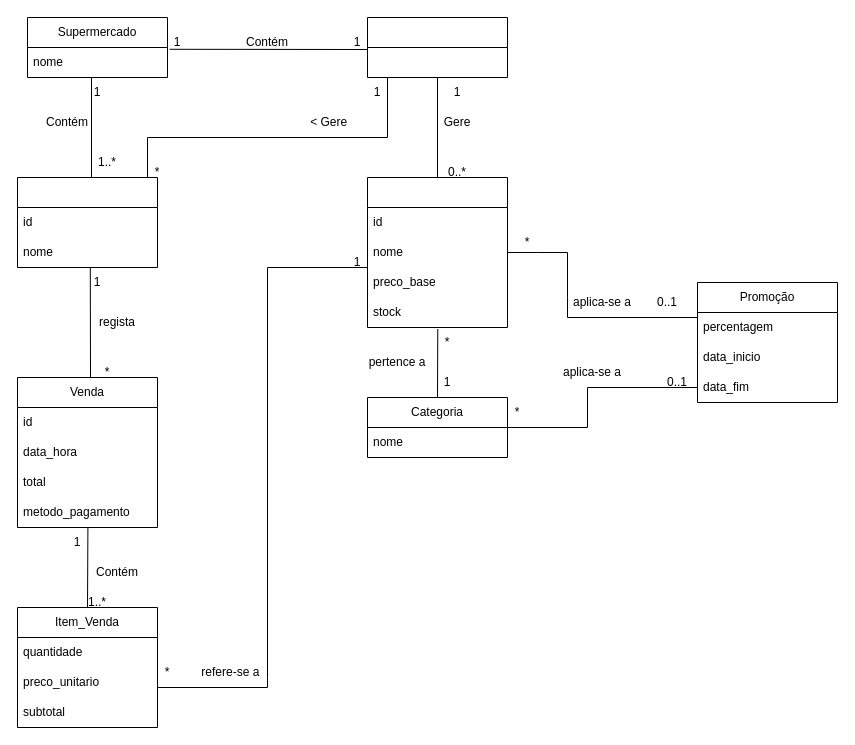
Some shapes in this 855 by 745 pixel diagram are drawn without their labels. The shapes that lost their labels are listed below. From the top down, each one's box as (x1, y1, x2, y2) in pixels, then its label:
(366, 16, 508, 78): Admin
(16, 176, 158, 268): Caixa
(366, 176, 508, 328): Produto
